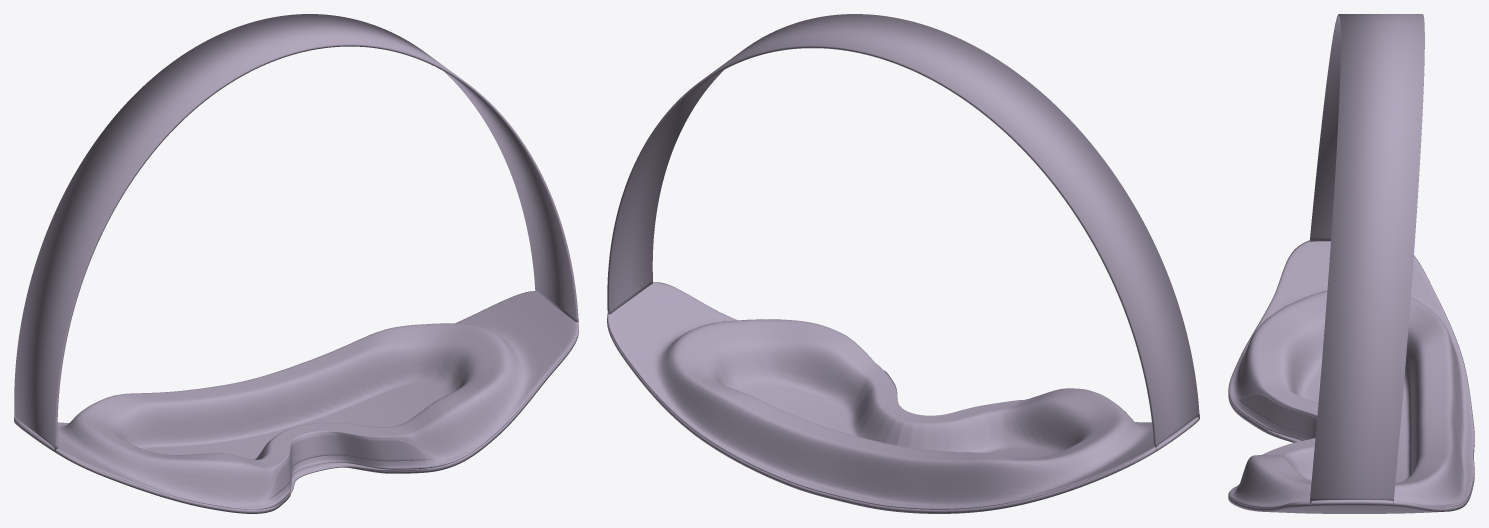
The model's file is Contour-B-lavender.glb.
3 views of the same model, side by side, from view 1: azimuth 30°, elevation 25°; view 2: azimuth 150°, elevation 25°; view 3: azimuth 270°, elevation 25° (orthographic). The views are drawn at different scales.
Parts seen in each view (by area): view 1: 02_Integrated_recessed_eye_relief, 05_Wide_soft_band_no_hard_buckle, 07_Thin_continuous_light_seal_lip, 01_Curved_fabric_envelope; view 2: 02_Integrated_recessed_eye_relief, 05_Wide_soft_band_no_hard_buckle, 01_Curved_fabric_envelope; view 3: 05_Wide_soft_band_no_hard_buckle, 02_Integrated_recessed_eye_relief, 01_Curved_fabric_envelope, 07_Thin_continuous_light_seal_lip.
Boxes of the visible parts, x1,y1,x2,y2 form: 02_Integrated_recessed_eye_relief: (14, 291, 578, 509); 05_Wide_soft_band_no_hard_buckle: (14, 14, 578, 451); 07_Thin_continuous_light_seal_lip: (265, 434, 437, 500); 01_Curved_fabric_envelope: (14, 329, 578, 513); 02_Integrated_recessed_eye_relief: (607, 282, 1199, 509); 05_Wide_soft_band_no_hard_buckle: (607, 14, 1199, 450); 01_Curved_fabric_envelope: (607, 320, 1199, 513); 05_Wide_soft_band_no_hard_buckle: (1309, 14, 1424, 504); 02_Integrated_recessed_eye_relief: (1228, 240, 1474, 507); 01_Curved_fabric_envelope: (1228, 394, 1474, 513); 07_Thin_continuous_light_seal_lip: (1239, 393, 1317, 438).
Bounding box in the file's own units: 0.24 × 0.179 × 0.094.
